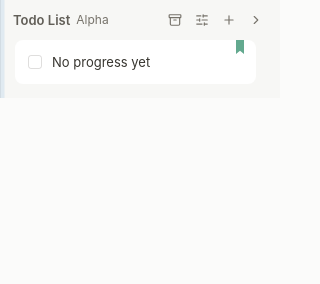
TodoRail › lets nested Tag and Subtask editors handle Escape without discarding the Todo draft
The width and height of the screenshot is (320, 284).
Click the button named "新增代办".
click(229, 20)  # box [217, 8, 242, 32]
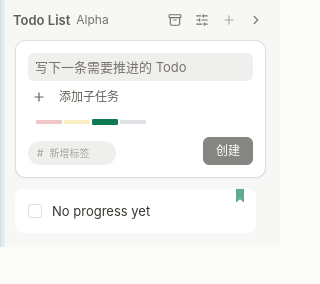
Type "保留创建草稿" into the text box with placeholder "写下一条需要推进的 Todo".
click(140, 67); type("保留创建草稿")  # box [28, 53, 253, 81]
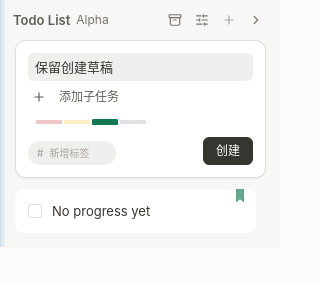
Click the button "添加子任务".
click(76, 96)  # box [32, 89, 119, 104]
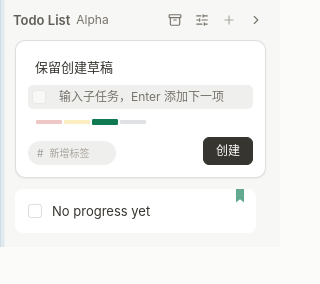
Type "暂不添加" into the 1st field.
click(150, 97); type("暂不添加")  # box [52, 85, 249, 109]
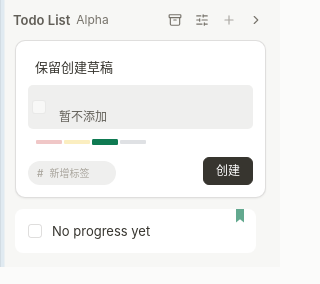
Press Escape
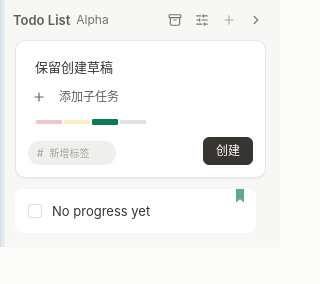
Now the element with test id "todo-composer-card" is shown, box [15, 40, 266, 178]
Now the field is gone
Type "暂不选择" into the field named "新增标签".
click(75, 153); type("暂不选择")  # box [43, 144, 107, 162]
Press Escape
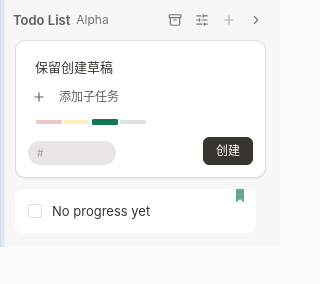
Now the element with test id "todo-composer-card" is shown, box [15, 40, 266, 178]
Now the field named "新增标签" is empty, box [43, 144, 107, 162]
